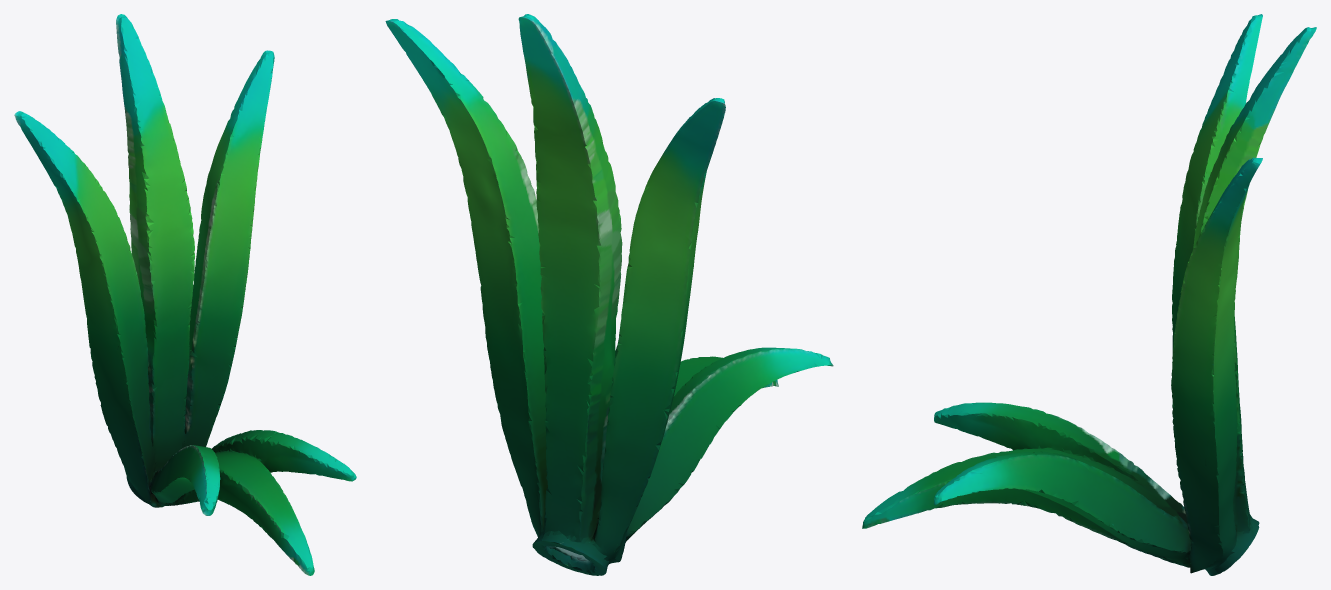
Rendered from Atlantis_KelpTuft.glb.
The picture shows the model from 3 angles, left to right: view 1: azimuth 30°, elevation 25°; view 2: azimuth 150°, elevation 25°; view 3: azimuth 270°, elevation 25°; orthographic projection. The views are drawn at different scales.
Visible parts, largest first — view 1: Atlantis_KelpTuft; view 2: Atlantis_KelpTuft; view 3: Atlantis_KelpTuft.
Part boxes in pixels (x1,y1,x2,y2): Atlantis_KelpTuft: [14, 14, 356, 575]; Atlantis_KelpTuft: [385, 14, 833, 575]; Atlantis_KelpTuft: [862, 14, 1316, 575].
Size of the model in its own units: 1.01 by 1.7 by 1.29.
1 material, 1 textured.
